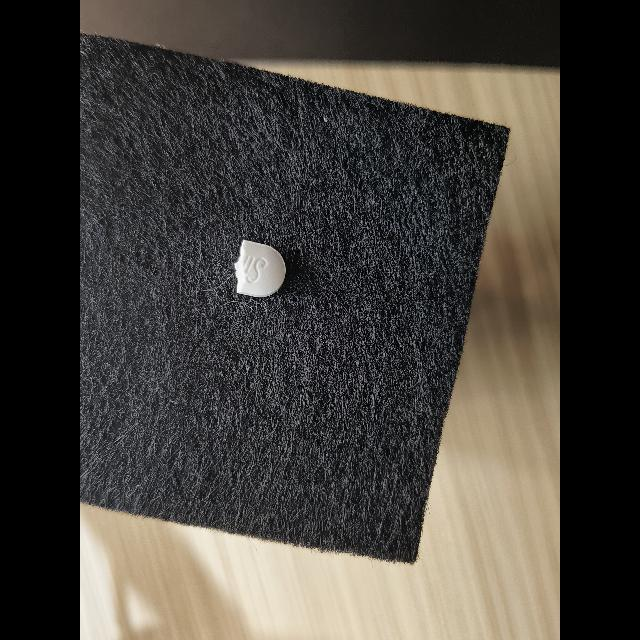Chipped Pill: (234, 240, 286, 297)
